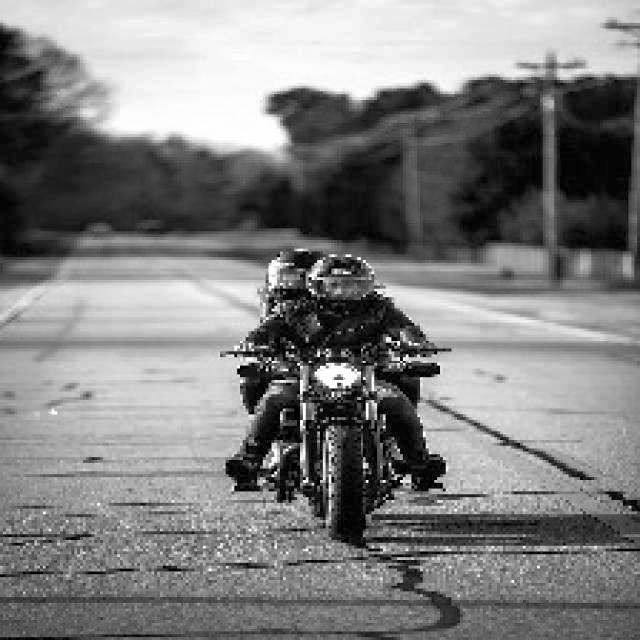Bike: (270, 344, 412, 542)
